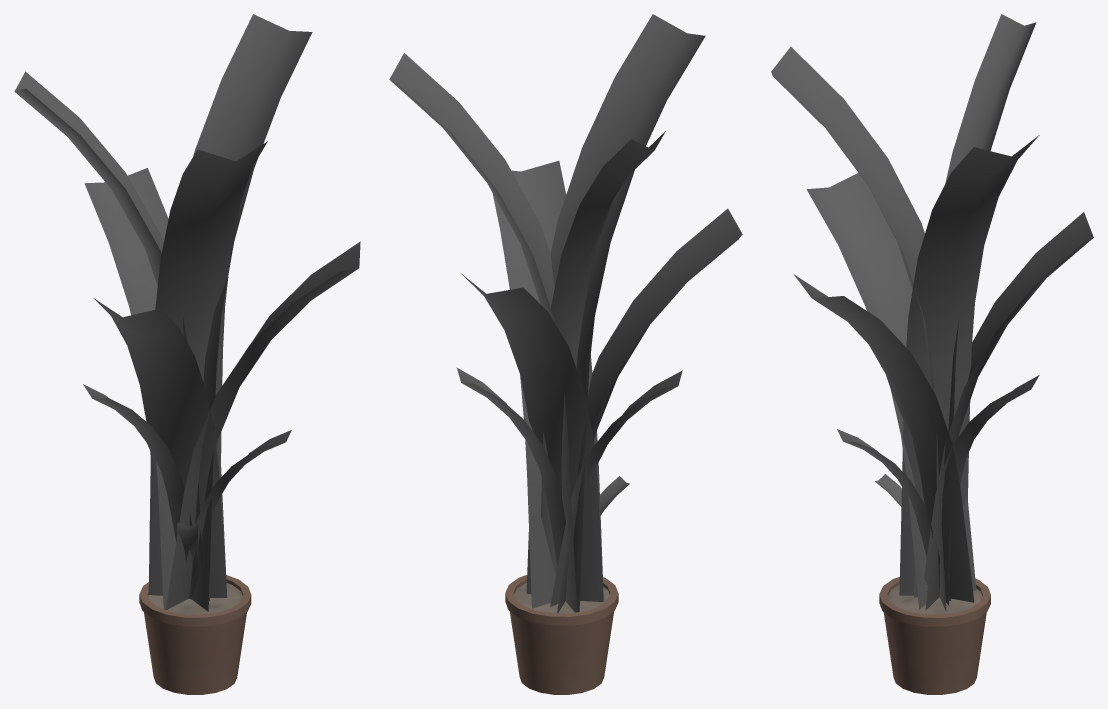
Rendered from mcp_plant.FBX.
The picture shows the model from 3 angles, left to right: view 1: azimuth 30°, elevation 25°; view 2: azimuth 150°, elevation 25°; view 3: azimuth 270°, elevation 25°; orthographic projection.
Visible parts, largest first — view 1: mcp_pot_plant; view 2: mcp_pot_plant; view 3: mcp_pot_plant.
Part boxes in pixels (x1,y1,x2,y2): mcp_pot_plant: [14, 14, 360, 694]; mcp_pot_plant: [389, 14, 742, 694]; mcp_pot_plant: [771, 14, 1093, 694].
Bounding box in the file's own units: 90.8 × 92.31 × 188.
